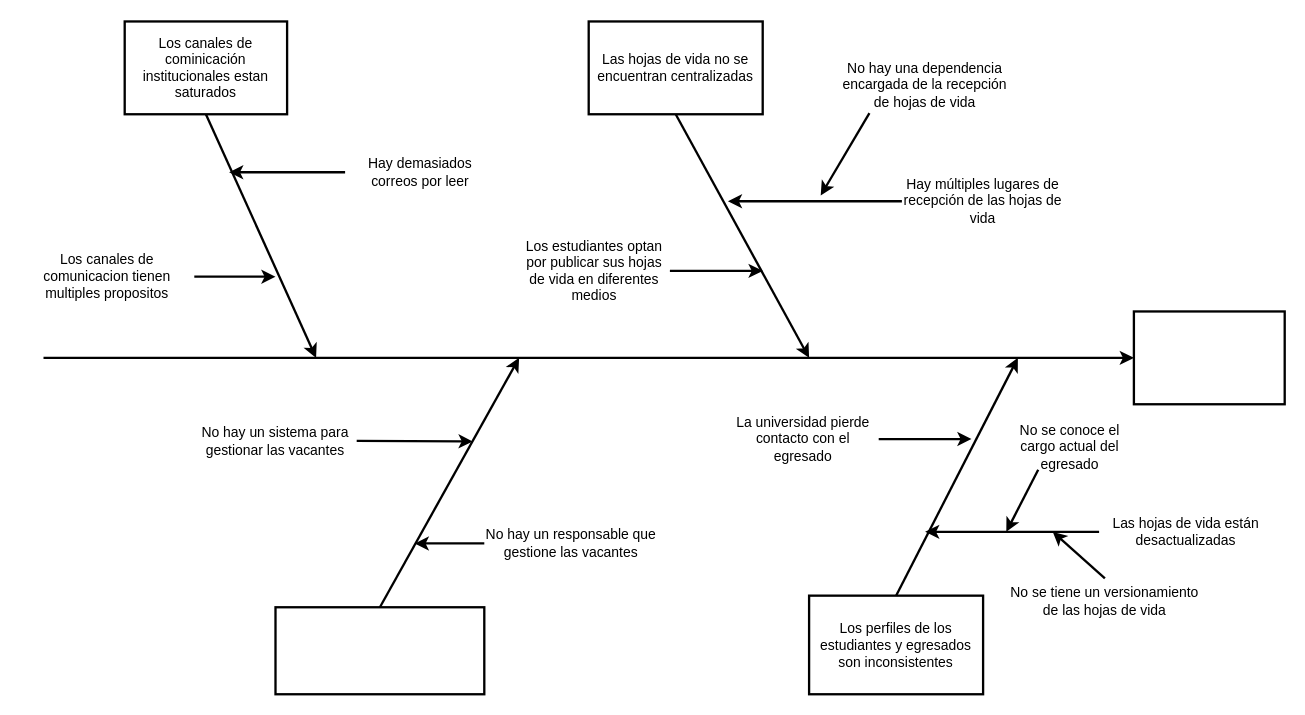
Some shapes in this 1305 by 715 pixel diagram are drawn without their labels. Here are the shapes that lost their labels. From the top down, the box of each, then its label:
(1132, 310, 1285, 405): Hay dificultad en la gestión de hojas de vida de estudiantes y egresados
(274, 606, 485, 695): Las vacantes no son canalizadas por un mismo medio
